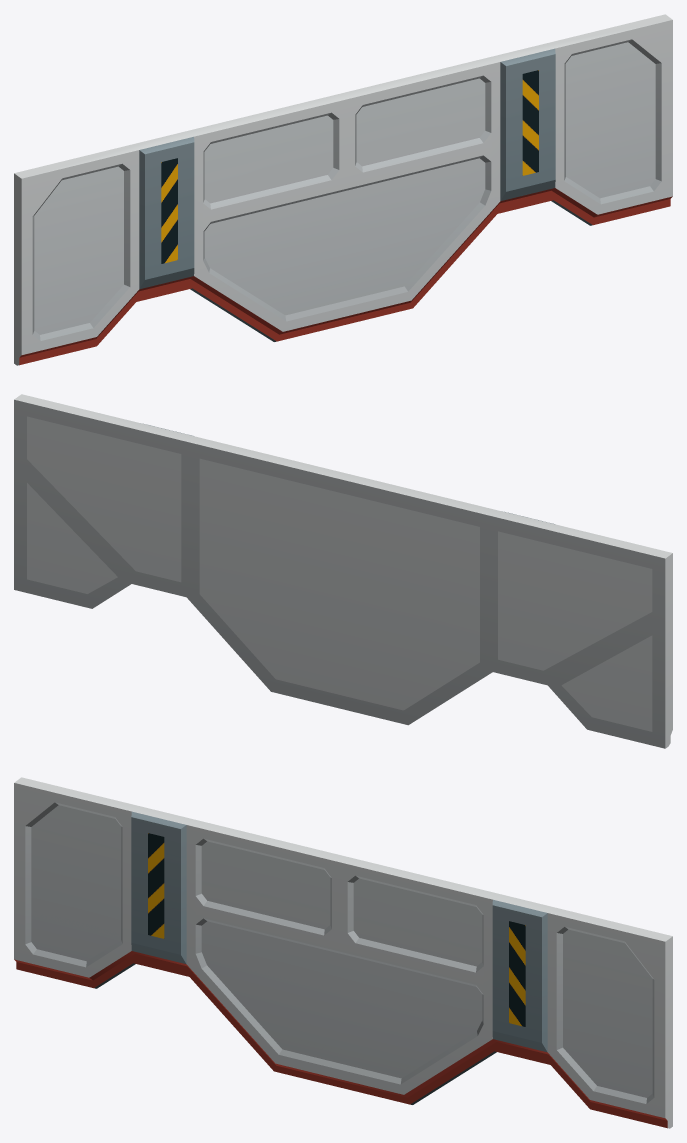
Rendered from Door_panel_015.fbx.
The picture shows the model from 3 angles, top to bottom: view 1: azimuth 30°, elevation 25°; view 2: azimuth 150°, elevation 25°; view 3: azimuth 330°, elevation 25°; orthographic projection.
Visible parts, largest first — view 1: Door_panel_015; view 2: Door_panel_015; view 3: Door_panel_015.
Part boxes in pixels (x1,y1,x2,y2): Door_panel_015: (14, 14, 672, 365); Door_panel_015: (14, 394, 672, 748); Door_panel_015: (14, 777, 672, 1128).
Size of the model in its own units: 500 by 14 by 168.
